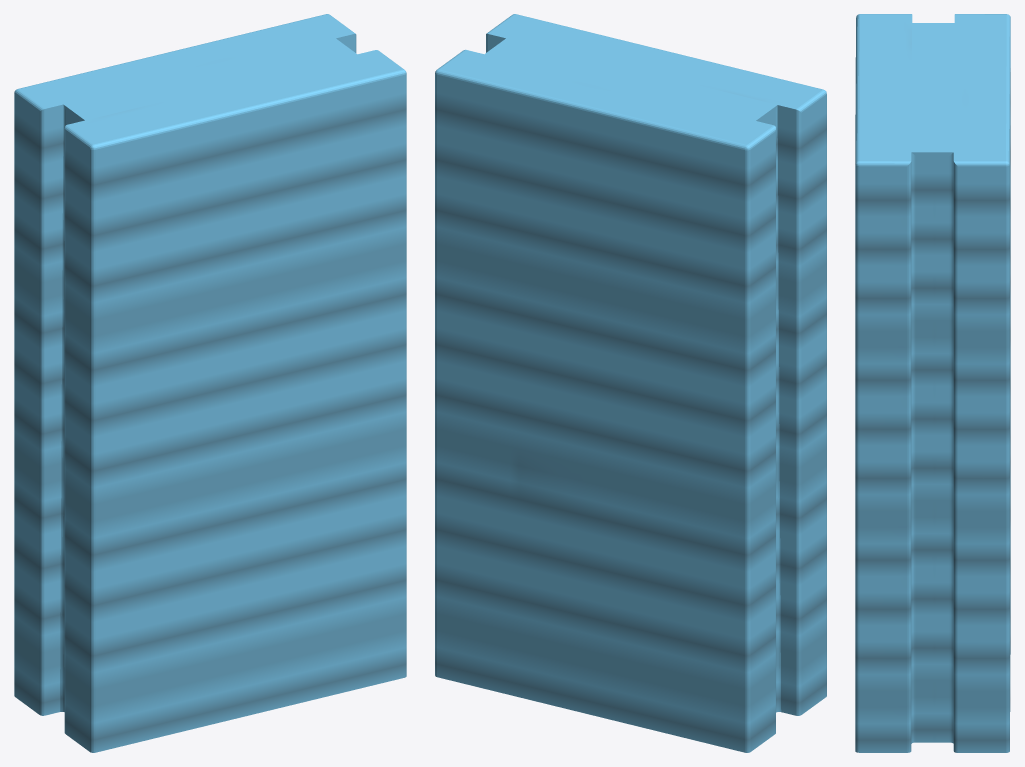
File: HancockBuilding_Mesh.fbx
3 renders of one model, left to right at view 1: azimuth 30°, elevation 25°; view 2: azimuth 150°, elevation 25°; view 3: azimuth 270°, elevation 25°, orthographic. The views are drawn at different scales.
Visible parts, largest first — view 1: Cube; view 2: Cube; view 3: Cube.
Part boxes in pixels (x1,y1,x2,y2): Cube: (14,14,406,752); Cube: (435,14,826,752); Cube: (855,14,1010,752).
Size of the model in its own units: 1105 by 2028 by 484.
